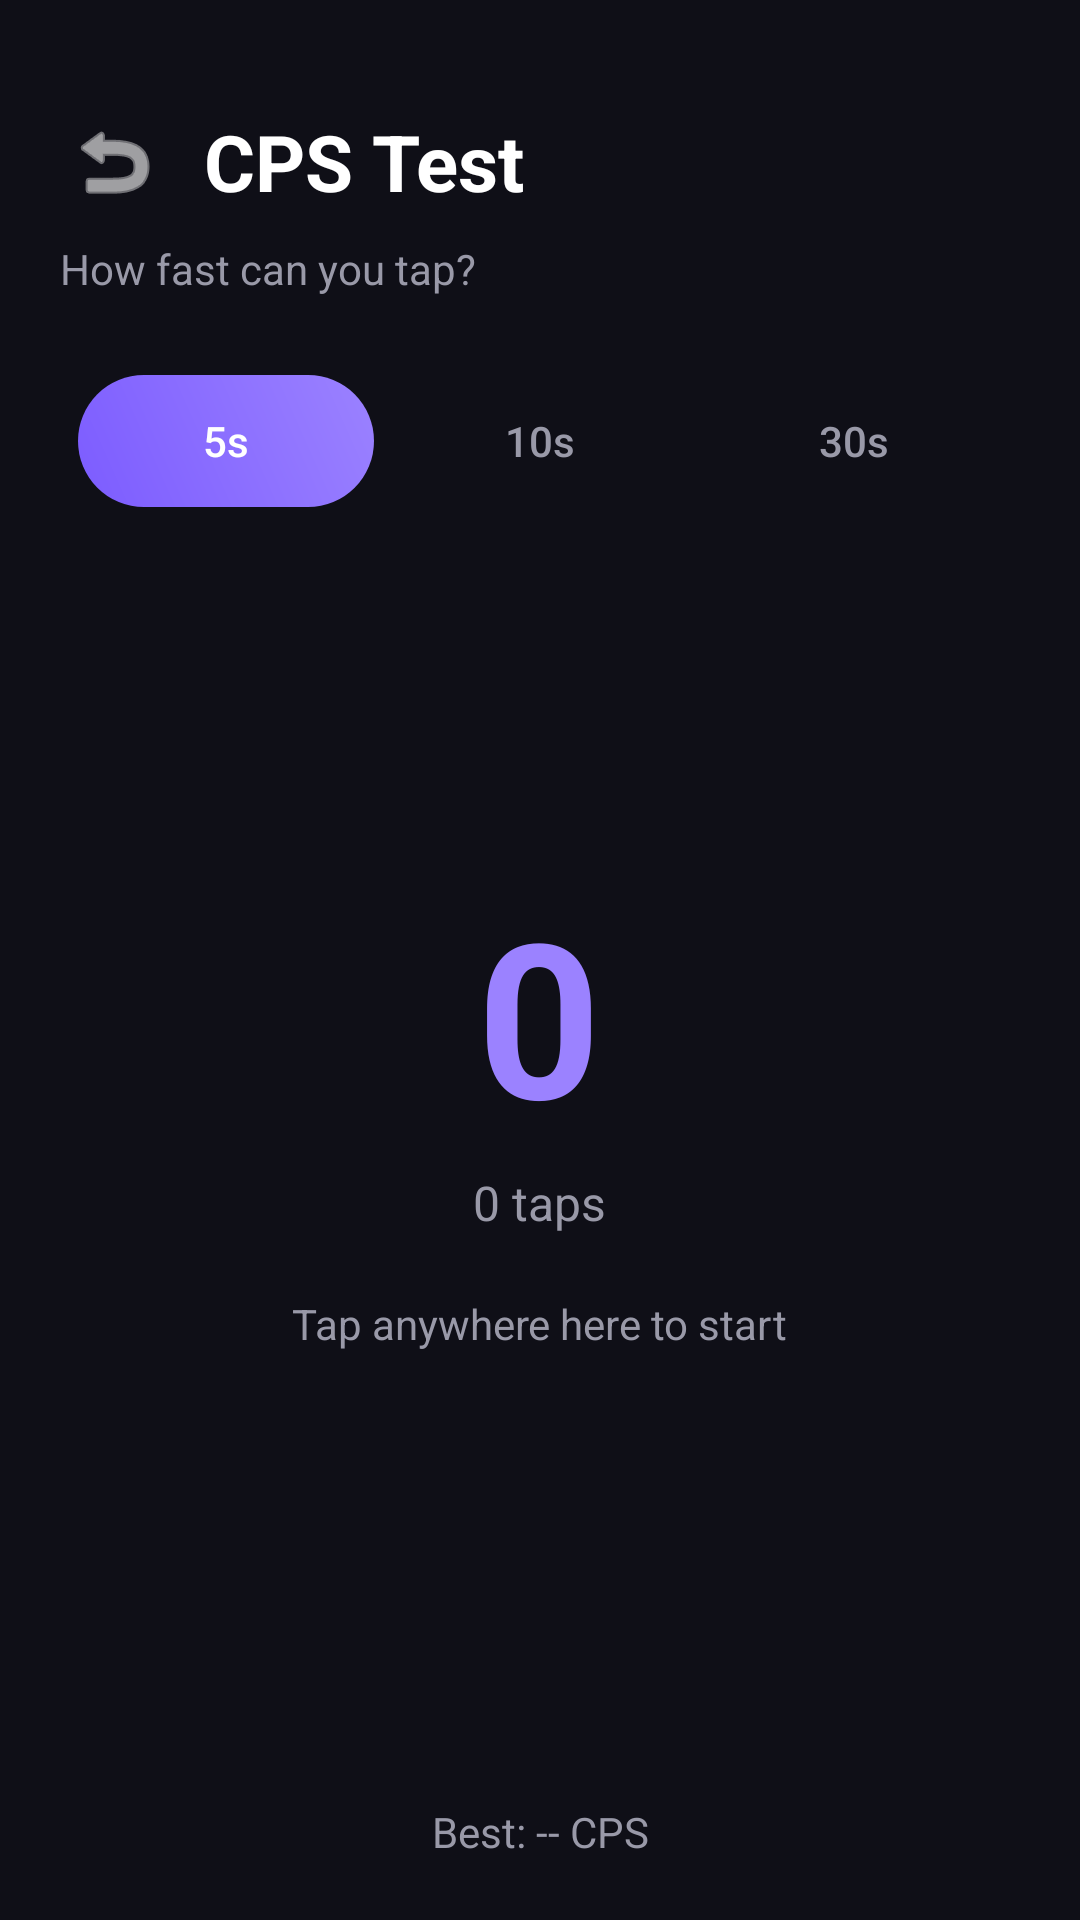

Where to tap for icons on this 1080w x 1920h app screen, as [x,y]:
revert: [115,162]
